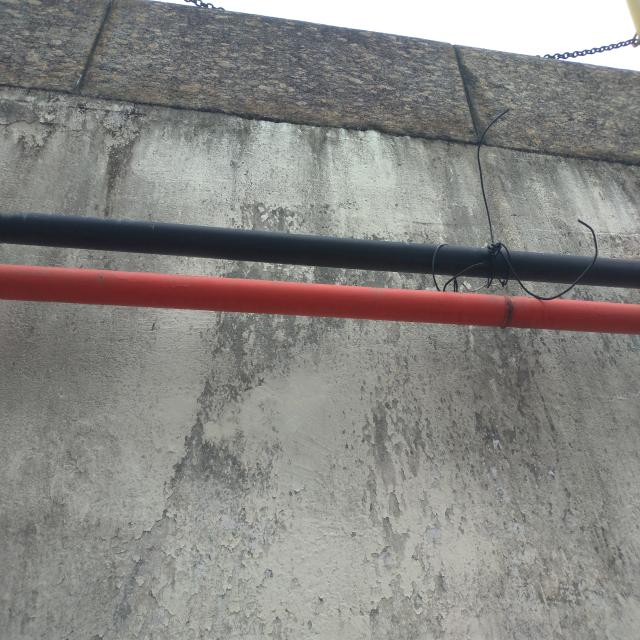gas: (7, 214, 635, 285), (4, 268, 636, 330)
